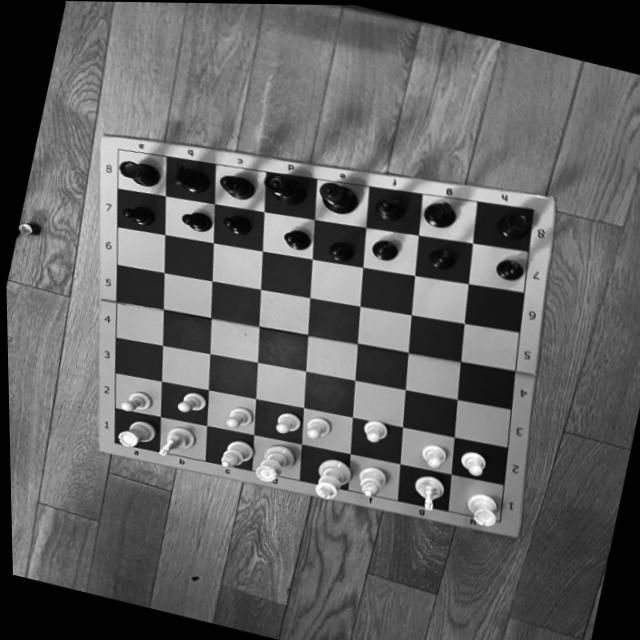chess-table-corners: (520, 202, 544, 218), (107, 144, 128, 158), (490, 512, 508, 528), (104, 434, 122, 448)
